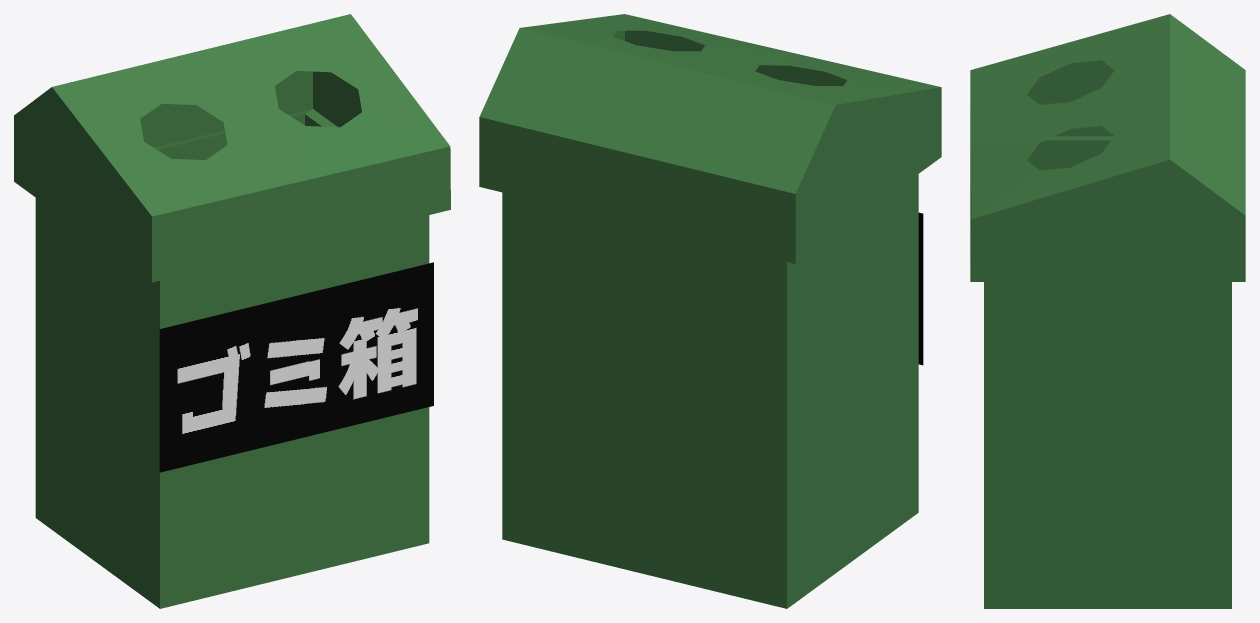
Rendered from game_gomi.fbx.
3 renders of one model, left to right at view 1: azimuth 30°, elevation 25°; view 2: azimuth 150°, elevation 25°; view 3: azimuth 270°, elevation 25°, orthographic. The views are drawn at different scales.
Visible parts, largest first — view 1: gomi_petbottle, font; view 2: gomi_petbottle, font; view 3: gomi_petbottle.
Part boxes in pixels (x1,y1,x2,y2): gomi_petbottle: (14,14,450,608); font: (159,262,433,472); gomi_petbottle: (479,14,941,608); font: (918,212,923,365); gomi_petbottle: (970,14,1245,608).
Bounding box in the file's own units: 278 × 406 × 222.
